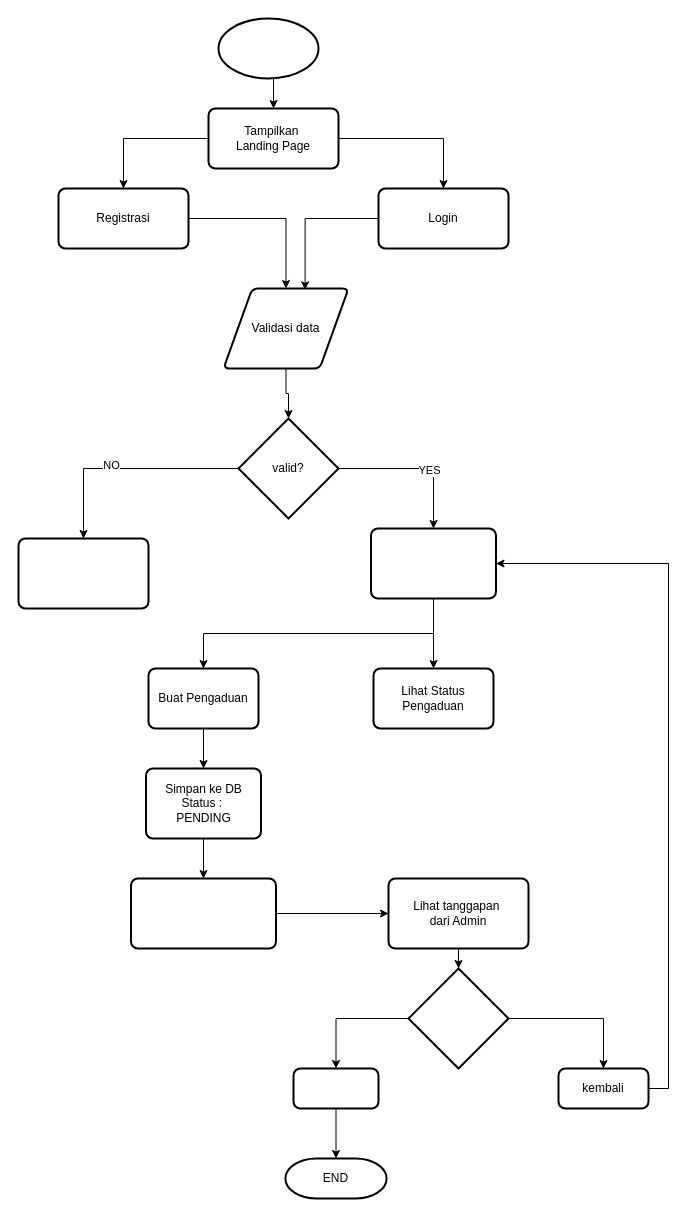
Image size: 694x1216. Some labels were removed from this diagram. Here are the shapes that lost their labels. From the top down, the centre of each, then its label:
point (268, 48): Start
point (83, 573): Tampilkan Erorr Login ulang
point (433, 563): Dashboard
point (203, 913): Tampilakan Notifikasi "PENGADUAN BERHASIL
point (458, 1018): pilih menu
point (335, 1088): LOGOUT
